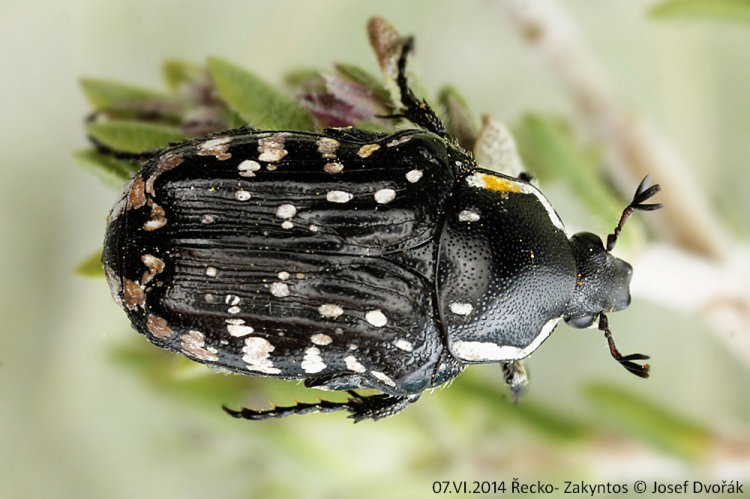Oxythyrea_cinctella: (81, 32, 668, 448)
